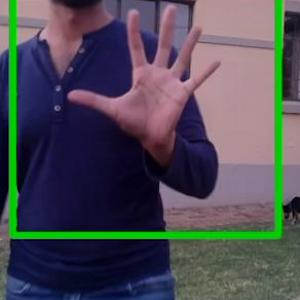follow_hand: (66, 0, 226, 151)
